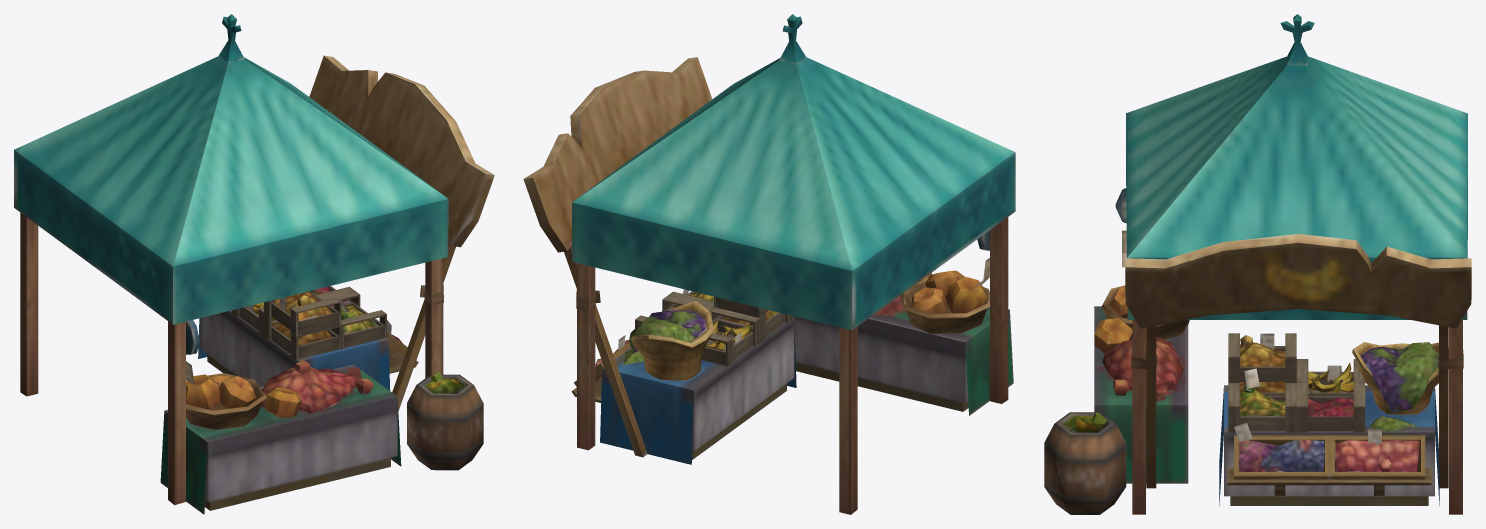
The model's file is zhucheng_tan04.FBX.
The picture shows the model from 3 angles, left to right: view 1: azimuth 30°, elevation 25°; view 2: azimuth 150°, elevation 25°; view 3: azimuth 270°, elevation 25°; orthographic projection. The views are drawn at different scales.
Parts seen in each view (by area): view 1: zhucheng_tan04; view 2: zhucheng_tan04; view 3: zhucheng_tan04.
Boxes of the visible parts, bbox=[...] form: zhucheng_tan04: bbox=[14, 14, 494, 514]; zhucheng_tan04: bbox=[523, 14, 1015, 514]; zhucheng_tan04: bbox=[1044, 14, 1471, 514].
Bounding box in the file's own units: 199 × 207 × 230.
